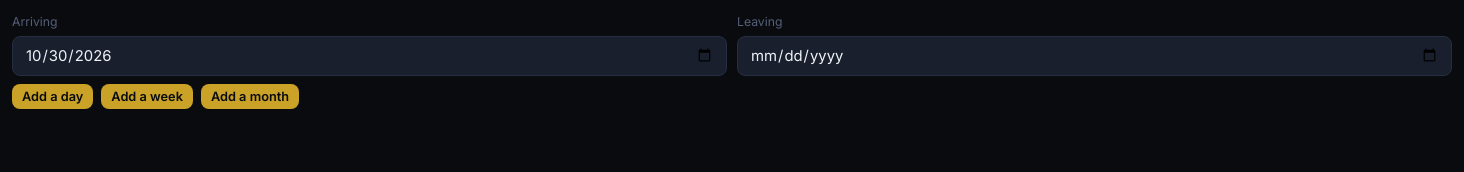
Test: New Reservation — Add a day / Add a week / Add a month › one press is one night
Click the button "Add a day". click: (53, 96)
box: [12,84,93,109]
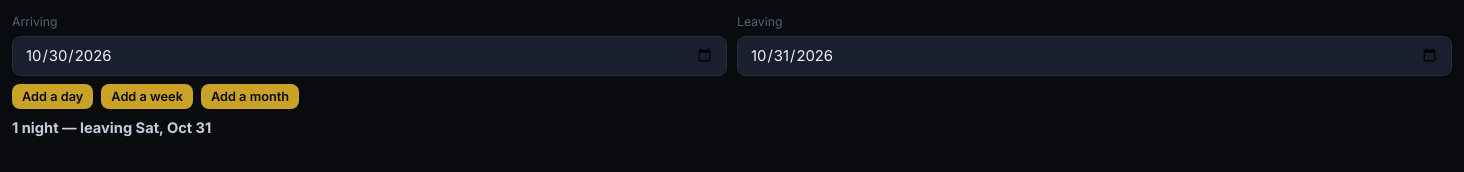
Check: the text with test id "resv-nights" reads "1 night — leaving Sat, Oct 31", box [12,119,211,137]
